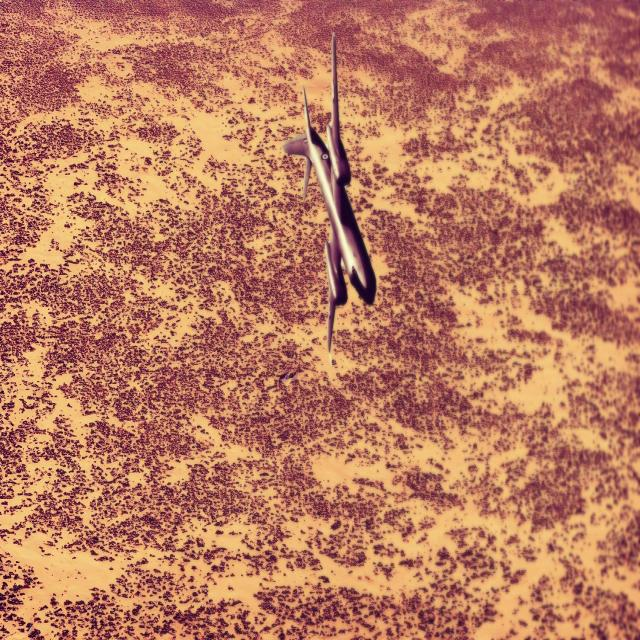airplane: (281, 30, 377, 362)
